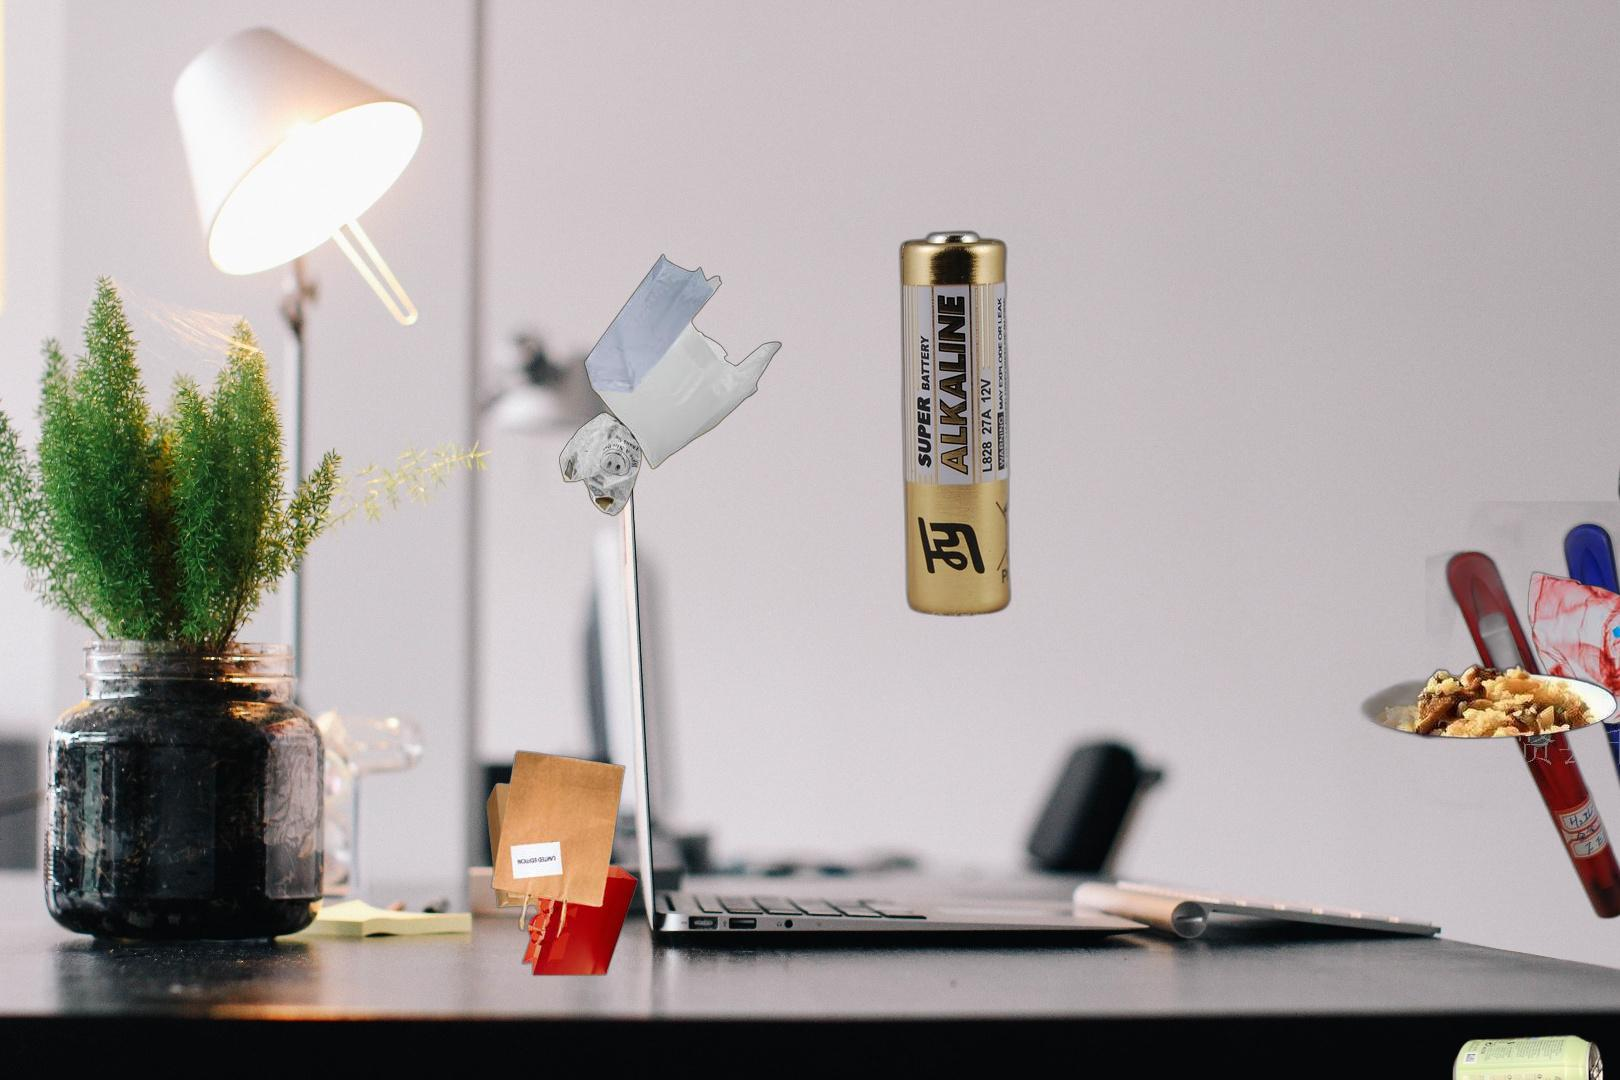battery: (894, 228, 1016, 620)
biological: (1355, 661, 1620, 812)
glass: (1614, 319, 1620, 620)
metal-cans: (1446, 1028, 1608, 1080)
paper-bag: (483, 749, 640, 979)
penholder: (1425, 501, 1620, 943)
plastic-bag: (556, 251, 785, 520), (1525, 569, 1620, 859)
